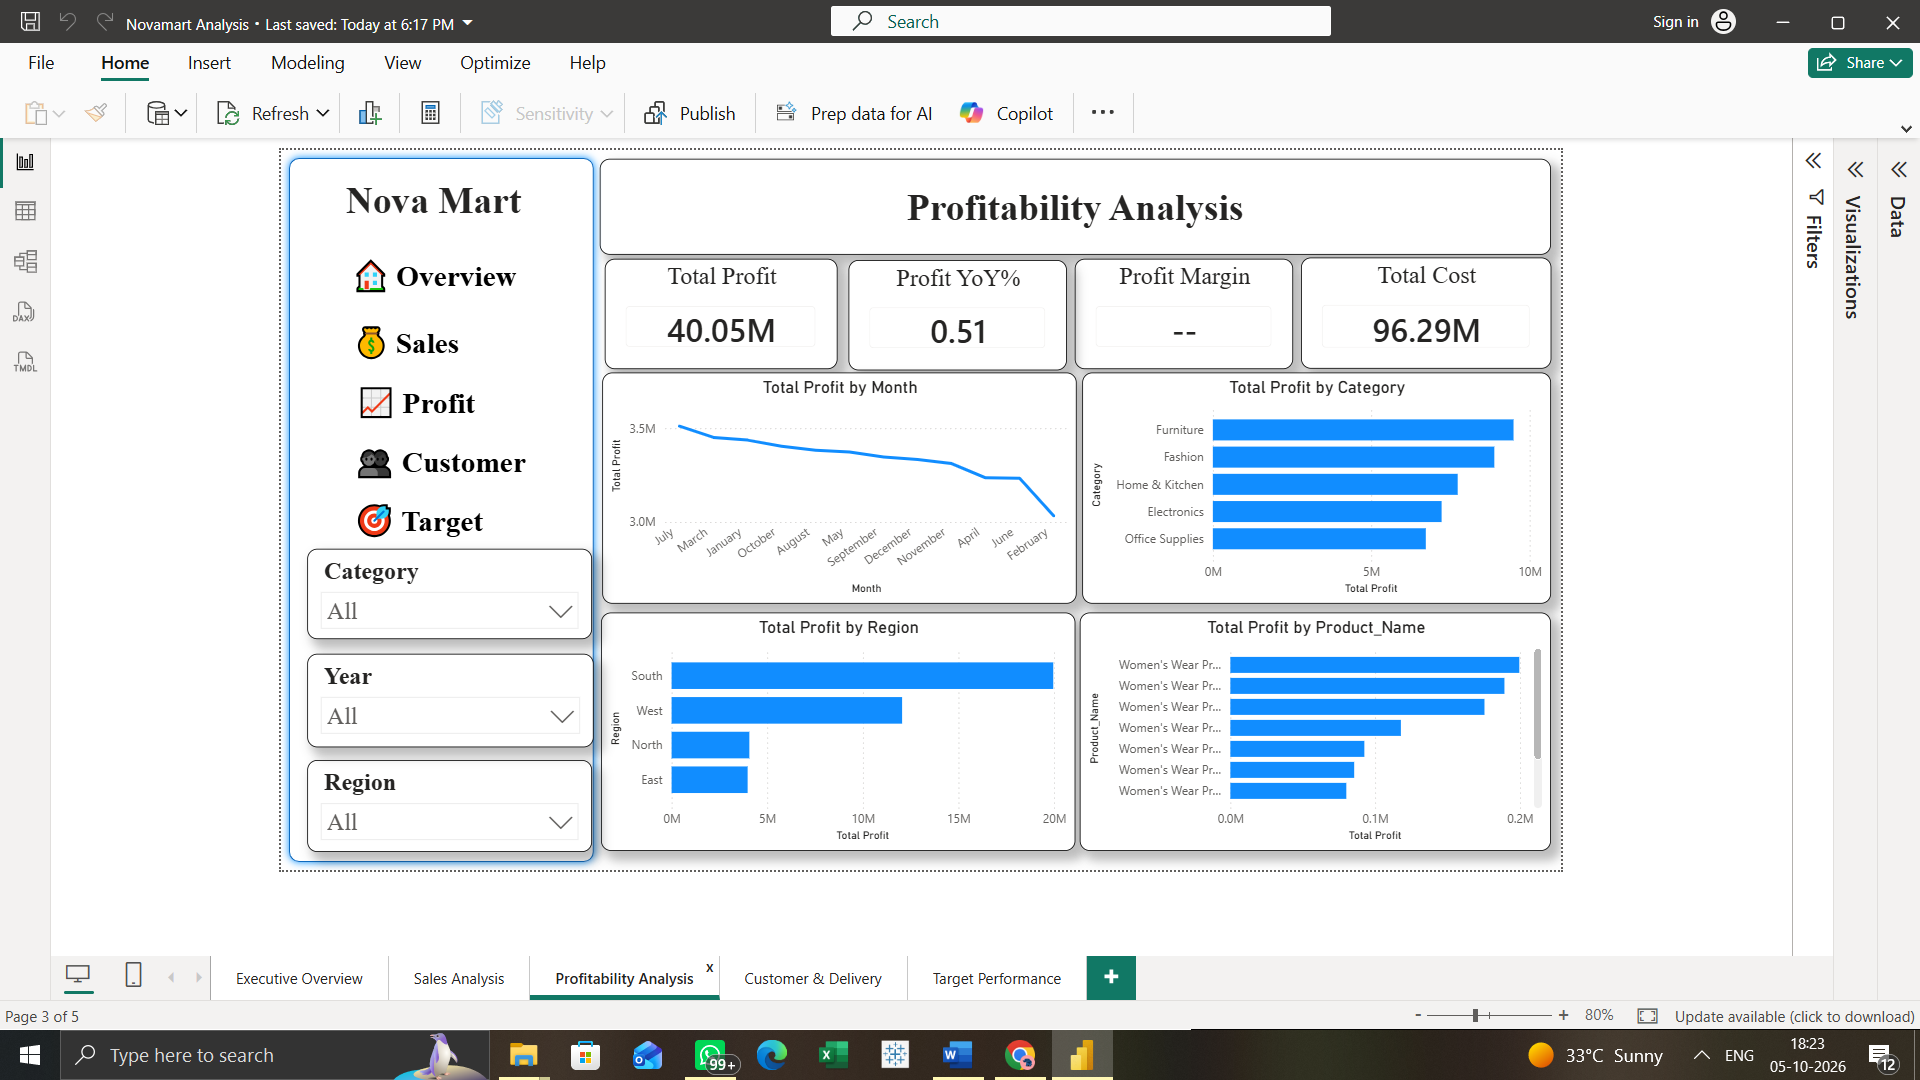

The dashboard page shown, as its layout file describes it:
{"tool":"powerbi","page":{"name":"Profitability Analysis","canvas":[1280,720],"ordinal":2},"visuals":[{"type":"group","id":"g1","title":"Group 1","box":[0,0,1270,720],"z":0},{"type":"textbox","box":[318.6,8.6,951.4,95.7],"z":0,"group":"g1"},{"type":"cardVisual","title":"Total Profit","fields":{"Data":["_Measures.Total Profit"]},"box":[324.3,108.6,232.9,110],"z":1000,"group":"g1"},{"type":"slicer","fields":{"Values":["Products.Category"]},"box":[26.7,398.3,285,90],"z":1000},{"type":"cardVisual","title":"Profit Margin","fields":{"Data":["_Measures.Profit Margin %"]},"box":[794.3,108.6,218.6,110],"z":2000,"group":"g1"},{"type":"slicer","fields":{"Values":["Geography.Region"]},"box":[26.7,610,285,91.7],"z":2000},{"type":"cardVisual","title":"Profit YoY%","fields":{"Data":["_Measures.Profit YoY %"]},"box":[567.1,110,218.6,110],"z":3000,"group":"g1"},{"type":"slicer","fields":{"Values":["DateTable.Year"]},"box":[26.7,503.3,286.7,93.3],"z":3000},{"type":"cardVisual","title":"Total Cost","fields":{"Data":["_Measures.Total Cost"]},"box":[1020,107.1,250,111.4],"z":4000,"group":"g1"},{"type":"clusteredBarChart","fields":{"Category":["Products.Product_Name"],"Y":["_Measures.Total Profit"]},"box":[798.6,462.9,471.4,238.6],"z":4000},{"type":"lineChart","fields":{"Category":["DateTable.Month"],"Y":["_Measures.Total Profit"]},"box":[321.4,222.9,474.3,231.4],"z":5000,"group":"g1"},{"type":"clusteredBarChart","fields":{"Category":["Products.Category"],"Y":["_Measures.Total Profit"]},"box":[801.4,222.9,468.6,231.4],"z":6000,"group":"g1"},{"type":"clusteredBarChart","fields":{"Category":["Geography.Region"],"Y":["_Measures.Total Profit"]},"box":[320,462.9,474.3,238.6],"z":7000,"group":"g1"},{"type":"shape","box":[0,0,320.8,720],"z":8000,"group":"g1"},{"type":"textbox","box":[59.5,23.3,198.4,65],"z":9000,"group":"g1"},{"type":"actionButton","box":[61.2,88.3,185.2,70],"z":10000,"group":"g1"},{"type":"actionButton","box":[61.2,158.3,185.2,60],"z":11000,"group":"g1"},{"type":"actionButton","box":[49.6,218.3,170.3,63.3],"z":12000,"group":"g1"},{"type":"actionButton","box":[59.5,281.7,198.4,56.7],"z":13000,"group":"g1"},{"type":"actionButton","box":[62.8,338.3,150.5,60],"z":14000,"group":"g1"}]}

Visuals, with their boxes on the page's 1280x720 design canvas (x1, y1, x2, y2). These are canvas units, not pixel positions in the 1920x1080 screenshot, which may show the page scaled, cropped or inside an application window:
"Group 1" group: [0, 0, 1270, 720]
textbox: [319, 9, 1270, 104]
"Total Profit" cardVisual: [324, 109, 557, 219]
slicer - Products.Category: [27, 398, 312, 488]
"Profit Margin" cardVisual: [794, 109, 1013, 219]
slicer - Geography.Region: [27, 610, 312, 702]
"Profit YoY%" cardVisual: [567, 110, 786, 220]
slicer - DateTable.Year: [27, 503, 313, 597]
"Total Cost" cardVisual: [1020, 107, 1270, 218]
clusteredBarChart - Products.Product_Name x _Measures.Total Profit: [799, 463, 1270, 702]
lineChart - DateTable.Month x _Measures.Total Profit: [321, 223, 796, 454]
clusteredBarChart - Products.Category x _Measures.Total Profit: [801, 223, 1270, 454]
clusteredBarChart - Geography.Region x _Measures.Total Profit: [320, 463, 794, 702]
shape: [0, 0, 321, 720]
textbox: [60, 23, 258, 88]
actionButton: [61, 88, 246, 158]
actionButton: [61, 158, 246, 218]
actionButton: [50, 218, 220, 282]
actionButton: [60, 282, 258, 338]
actionButton: [63, 338, 213, 398]
